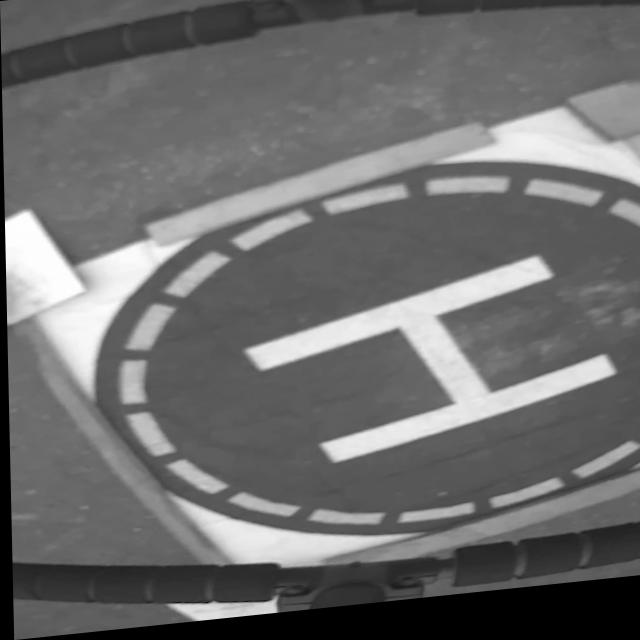Helipad: (241, 263, 614, 468)
